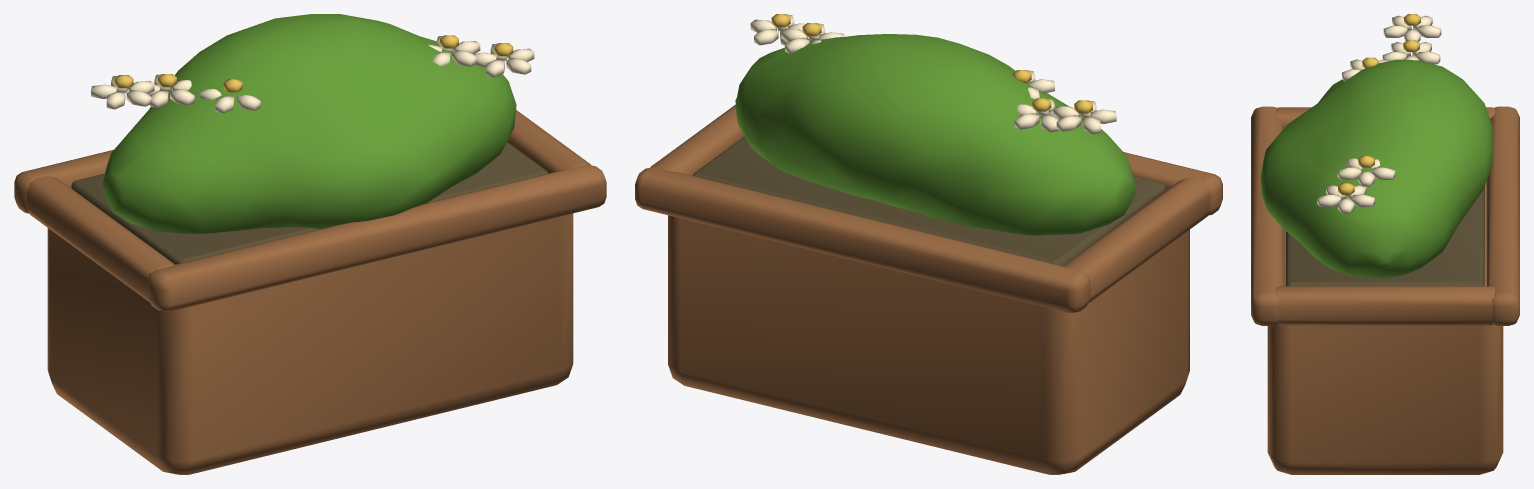
Rendered from FlowerPlanter1m.fbx.
3 renders of one model, left to right at view 1: azimuth 30°, elevation 25°; view 2: azimuth 150°, elevation 25°; view 3: azimuth 270°, elevation 25°, orthographic. The views are drawn at different scales.
Parts seen in each view (by area): view 1: FlowerPlanter1m_Wood, FlowerPlanter1m_Foliage, FlowerPlanter1m_Soil, FlowerPlanter1m_Flower, FlowerPlanter1m_FlowerGold; view 2: FlowerPlanter1m_Wood, FlowerPlanter1m_Foliage, FlowerPlanter1m_Soil, FlowerPlanter1m_Flower, FlowerPlanter1m_FlowerGold; view 3: FlowerPlanter1m_Wood, FlowerPlanter1m_Foliage, FlowerPlanter1m_Soil, FlowerPlanter1m_Flower, FlowerPlanter1m_FlowerGold.
Boxes of the visible parts, box(x1,y1,x2,y2) form: FlowerPlanter1m_Wood: box(14, 110, 606, 474); FlowerPlanter1m_Foliage: box(103, 14, 516, 233); FlowerPlanter1m_Soil: box(71, 142, 548, 264); FlowerPlanter1m_Flower: box(91, 36, 534, 113); FlowerPlanter1m_FlowerGold: box(114, 35, 513, 92); FlowerPlanter1m_Wood: box(635, 105, 1222, 474); FlowerPlanter1m_Foliage: box(735, 34, 1134, 235); FlowerPlanter1m_Soil: box(693, 136, 1166, 265); FlowerPlanter1m_Flower: box(750, 14, 1116, 134); FlowerPlanter1m_FlowerGold: box(771, 14, 1092, 113); FlowerPlanter1m_Wood: box(1251, 106, 1519, 474); FlowerPlanter1m_Foliage: box(1261, 59, 1492, 278); FlowerPlanter1m_Soil: box(1286, 186, 1484, 286); FlowerPlanter1m_Flower: box(1317, 15, 1441, 213); FlowerPlanter1m_FlowerGold: box(1338, 14, 1420, 194).
Size of the model in its own units: 1.25 by 0.9381 by 0.73.
